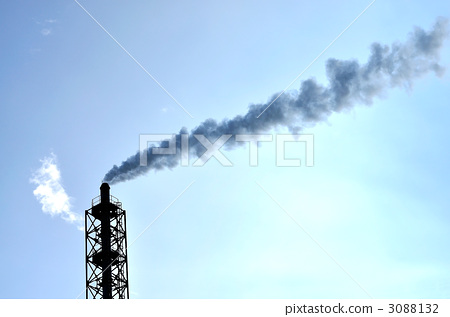dust: (86, 118, 235, 188)
